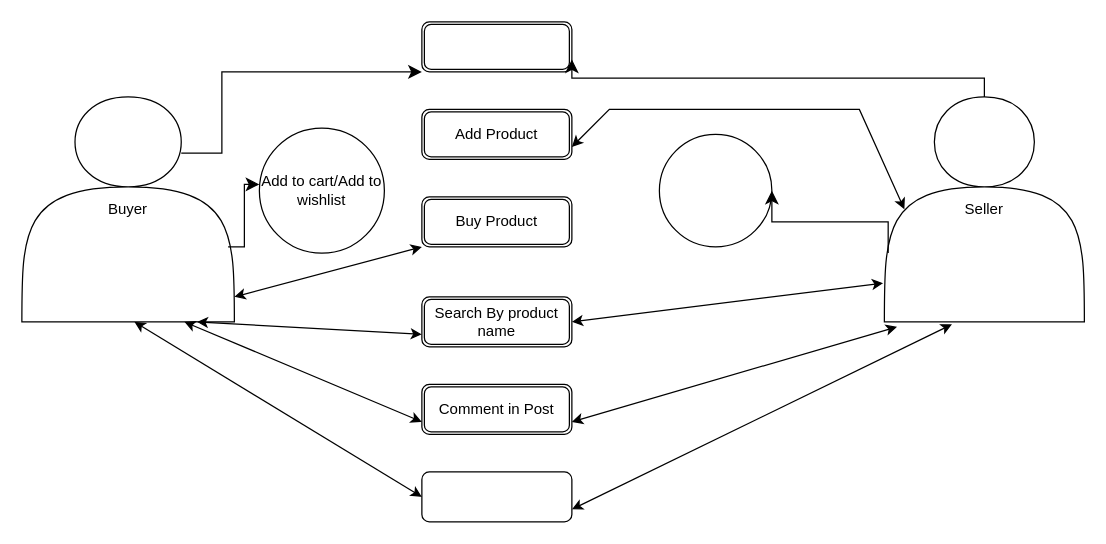
Image size: 1106x544. Some labels were removed from this diagram. The shapes that lost their labels are listed below. From the top down, each one's centre as x and y in pixels, then its label:
At point 496,46: "Login/Signup".
At point 715,190: "Update/Delete Products".
At point 496,496: "Log Out".
